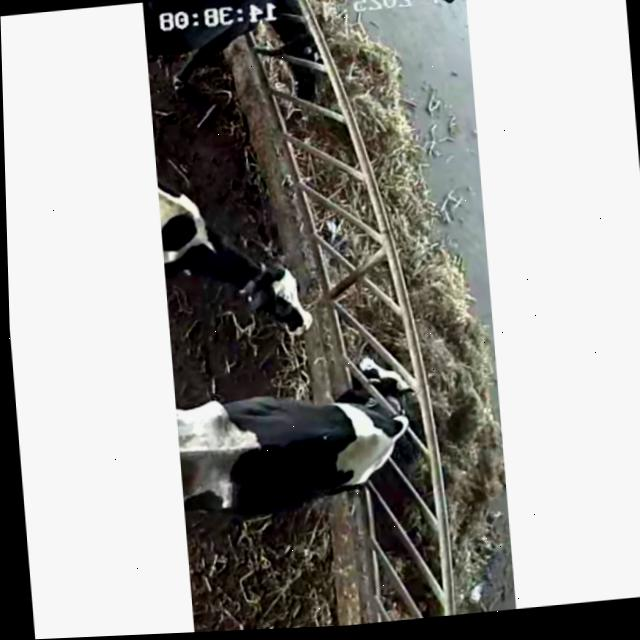eat: (264, 317, 486, 503), (158, 0, 361, 123)
